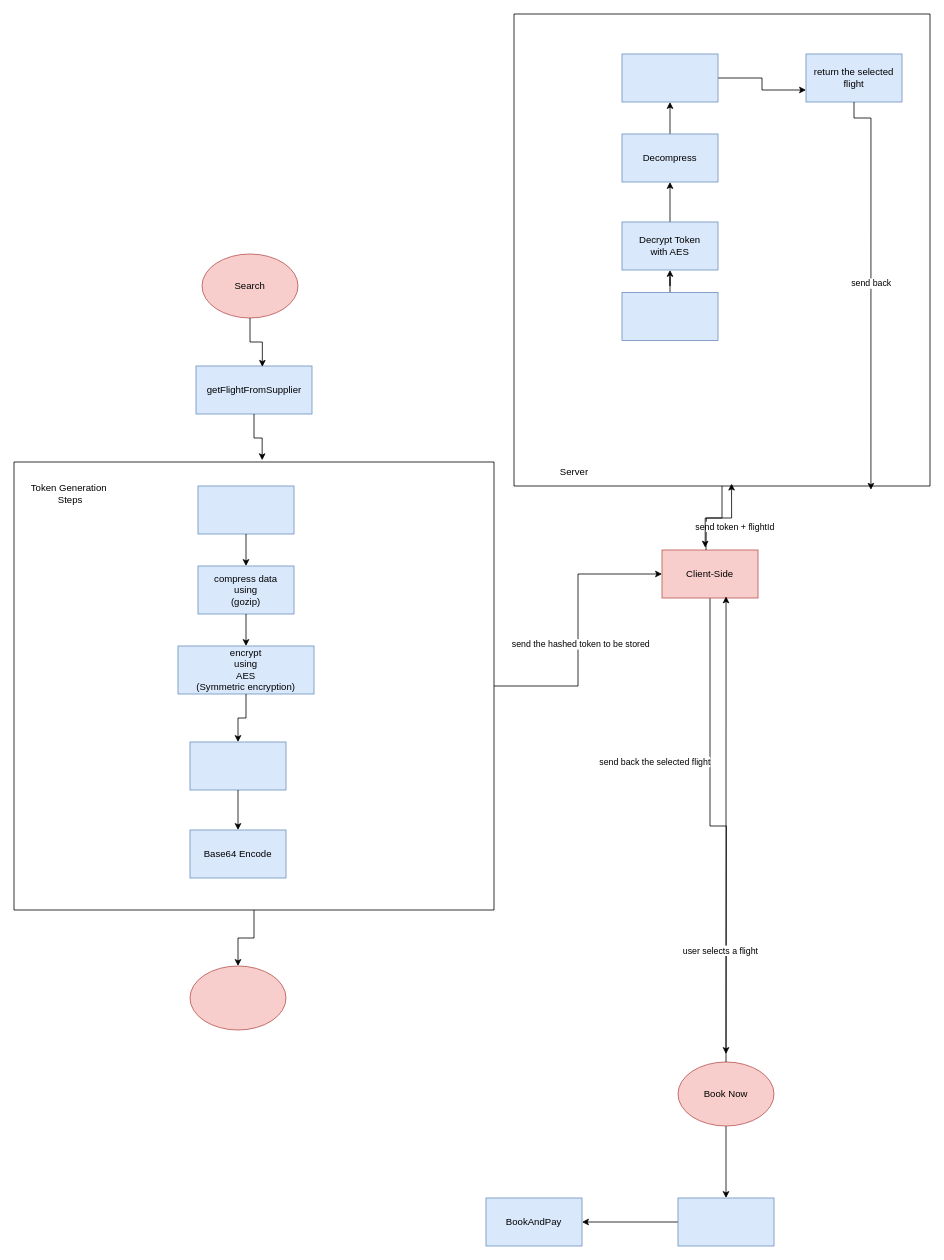
The diagram is 944 pixels wide and 1260 high, and some of its shapes have lost their labels. Here are the shapes that lost their labels. From the top down, the centre of each, then its label:
[669,77]: Deserialize into flight objects
[669,316]: verify HMAC signature
[245,509]: serialize requests using (MessagePack)
[237,765]: Sign HMAC signature
[237,997]: return results
[725,1221]: fareConfirm
